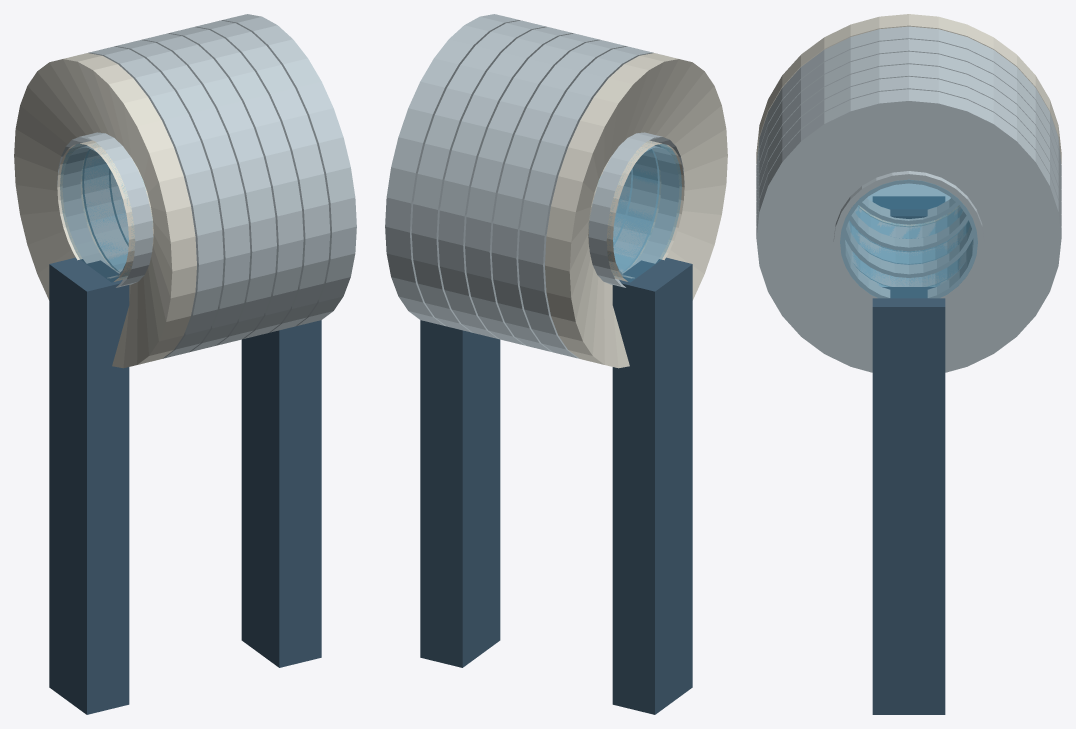
File: 06_L75_IonExtractionElectrodeAssembly.fbx
The picture shows the model from 3 angles, left to right: view 1: azimuth 30°, elevation 25°; view 2: azimuth 150°, elevation 25°; view 3: azimuth 270°, elevation 25°; orthographic projection. The views are drawn at different scales.
Visible parts, largest first — view 1: IonExtractionElectrodeAssembly, IonExtractionElectrodeAssembly_Part_0000, IonExtractionElectrodeAssembly_Part_0001, IonExtractionElectrodeAssembly_Part_0002, IonExtractionElectrodeAssembly_Part_0003, IonExtractionElectrodeAssembly_Part_0004, IonExtractionElectrodeAssembly_Part_0005, IonExtractionElectrodeAssembly_Part_0006, IonExtractionElectrodeAssembly_Part_0007, IonExtractionElectrodeAssembly_Part_0008; view 2: IonExtractionElectrodeAssembly, IonExtractionElectrodeAssembly_Part_0000, IonExtractionElectrodeAssembly_Part_0001, IonExtractionElectrodeAssembly_Part_0002, IonExtractionElectrodeAssembly_Part_0003, IonExtractionElectrodeAssembly_Part_0004, IonExtractionElectrodeAssembly_Part_0005, IonExtractionElectrodeAssembly_Part_0006, IonExtractionElectrodeAssembly_Part_0007, IonExtractionElectrodeAssembly_Part_0008; view 3: IonExtractionElectrodeAssembly_Part_0006, IonExtractionElectrodeAssembly, IonExtractionElectrodeAssembly_Part_0007, IonExtractionElectrodeAssembly_Part_0003, IonExtractionElectrodeAssembly_Part_0005, IonExtractionElectrodeAssembly_Part_0001, IonExtractionElectrodeAssembly_Part_0011, IonExtractionElectrodeAssembly_Part_0000, IonExtractionElectrodeAssembly_Part_0002, IonExtractionElectrodeAssembly_Part_0004, IonExtractionElectrodeAssembly_Part_0010, IonExtractionElectrodeAssembly_Part_0009 (+1 smaller).
Part boxes in pixels (x1,y1,x2,y2): IonExtractionElectrodeAssembly: [49, 257, 321, 714]; IonExtractionElectrodeAssembly_Part_0000: [14, 53, 196, 368]; IonExtractionElectrodeAssembly_Part_0001: [82, 46, 223, 358]; IonExtractionElectrodeAssembly_Part_0002: [109, 40, 250, 352]; IonExtractionElectrodeAssembly_Part_0003: [141, 33, 276, 345]; IonExtractionElectrodeAssembly_Part_0004: [167, 27, 303, 339]; IonExtractionElectrodeAssembly_Part_0005: [195, 20, 330, 332]; IonExtractionElectrodeAssembly_Part_0006: [219, 14, 356, 326]; IonExtractionElectrodeAssembly_Part_0007: [60, 143, 152, 282]; IonExtractionElectrodeAssembly_Part_0008: [57, 132, 153, 287]; IonExtractionElectrodeAssembly: [420, 257, 692, 714]; IonExtractionElectrodeAssembly_Part_0000: [545, 53, 727, 368]; IonExtractionElectrodeAssembly_Part_0001: [518, 46, 659, 358]; IonExtractionElectrodeAssembly_Part_0002: [491, 40, 632, 352]; IonExtractionElectrodeAssembly_Part_0003: [465, 33, 600, 345]; IonExtractionElectrodeAssembly_Part_0004: [438, 27, 574, 339]; IonExtractionElectrodeAssembly_Part_0005: [411, 20, 546, 332]; IonExtractionElectrodeAssembly_Part_0006: [385, 14, 522, 326]; IonExtractionElectrodeAssembly_Part_0007: [589, 141, 681, 282]; IonExtractionElectrodeAssembly_Part_0008: [588, 132, 684, 287]; IonExtractionElectrodeAssembly_Part_0006: [756, 89, 1061, 372]; IonExtractionElectrodeAssembly: [872, 196, 945, 714]; IonExtractionElectrodeAssembly_Part_0007: [840, 180, 977, 297]; IonExtractionElectrodeAssembly_Part_0003: [756, 51, 1061, 264]; IonExtractionElectrodeAssembly_Part_0005: [756, 76, 1061, 286]; IonExtractionElectrodeAssembly_Part_0001: [756, 26, 1061, 238]; IonExtractionElectrodeAssembly_Part_0011: [833, 171, 984, 301]; IonExtractionElectrodeAssembly_Part_0000: [756, 14, 1061, 226]; IonExtractionElectrodeAssembly_Part_0002: [756, 39, 1061, 251]; IonExtractionElectrodeAssembly_Part_0004: [756, 64, 1061, 265]; IonExtractionElectrodeAssembly_Part_0010: [844, 225, 973, 277]; IonExtractionElectrodeAssembly_Part_0009: [849, 212, 968, 251].
Bounding box in the file's own units: 72 × 183 × 84.
